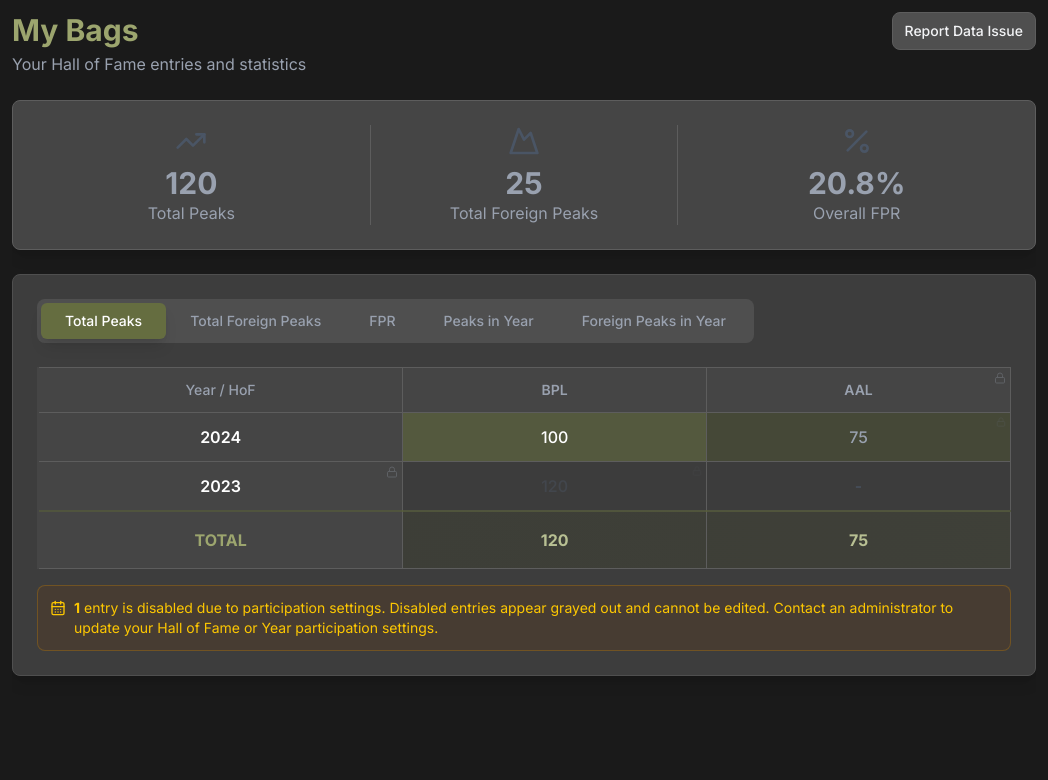
Test: MyBagsManagement › Metric Selection › should switch to foreign peaks metric
Click the button "Total Foreign Peaks" at (256, 321), box [166,303,345,339]
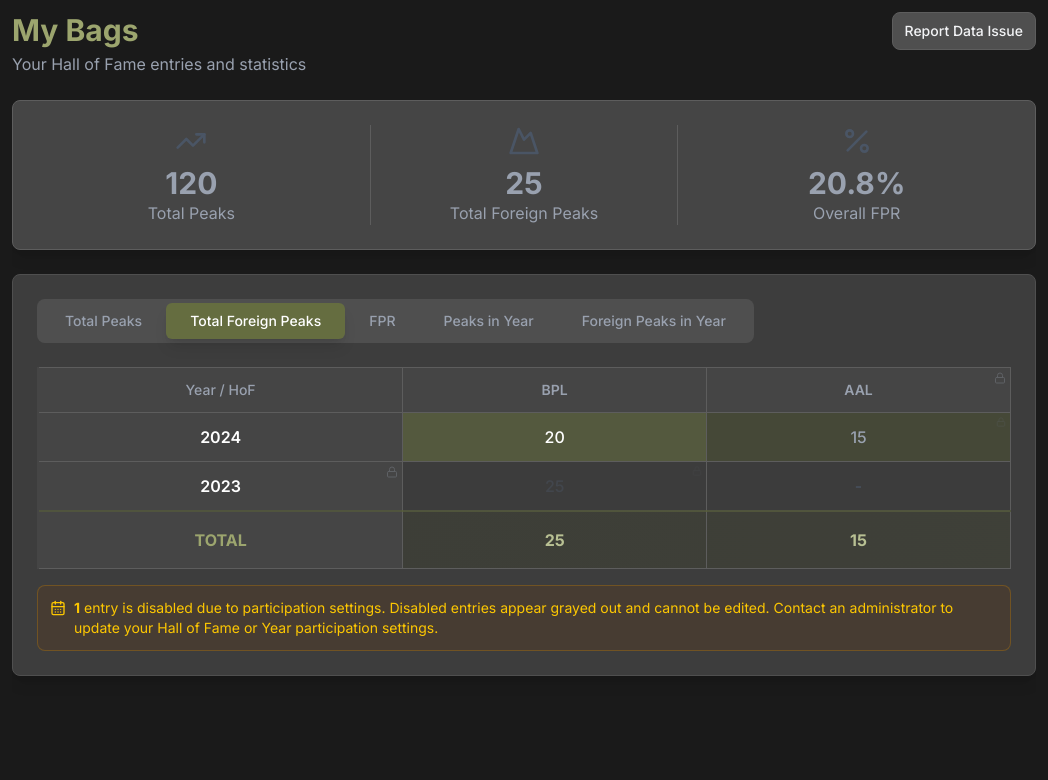
Check: the text "20" is shown, box [544,427,565,447]
